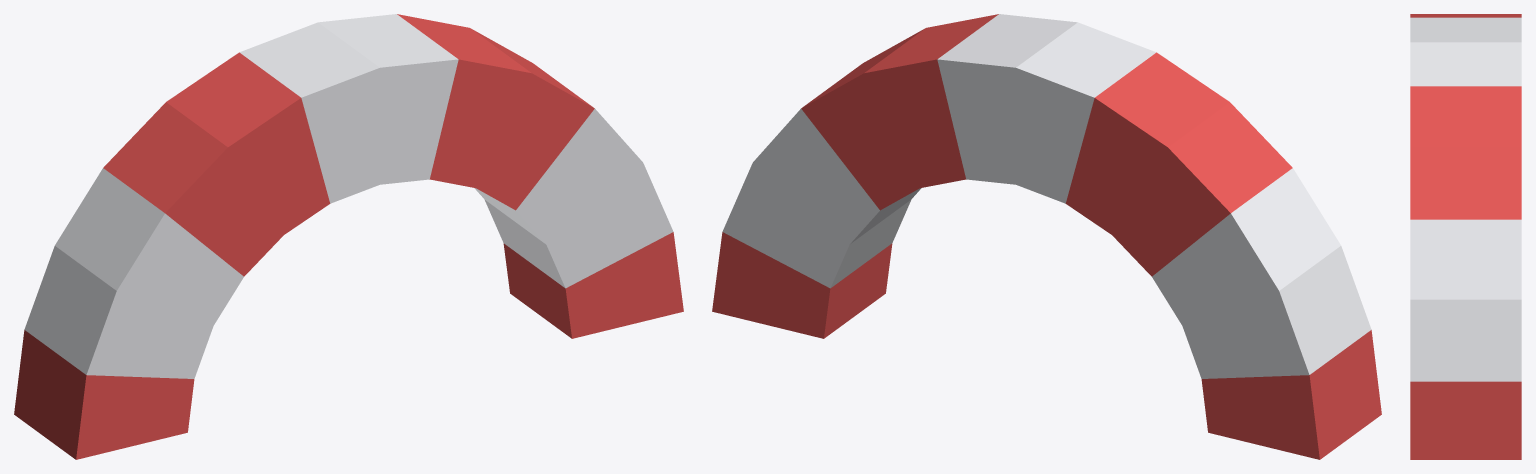
Rendered from overheadRoundColored.fbx.
3 renders of one model, left to right at view 1: azimuth 30°, elevation 25°; view 2: azimuth 150°, elevation 25°; view 3: azimuth 270°, elevation 25°, orthographic. The views are drawn at different scales.
Parts seen in each view (by area): view 1: overheadRoundColored; view 2: overheadRoundColored; view 3: overheadRoundColored.
Boxes of the visible parts, left/top/right/bottom form: overheadRoundColored: left=14, top=14, right=683, bottom=459; overheadRoundColored: left=712, top=14, right=1381, bottom=459; overheadRoundColored: left=1410, top=14, right=1521, bottom=459.
Size of the model in its own units: 18.67 by 9.33 by 3.3.
